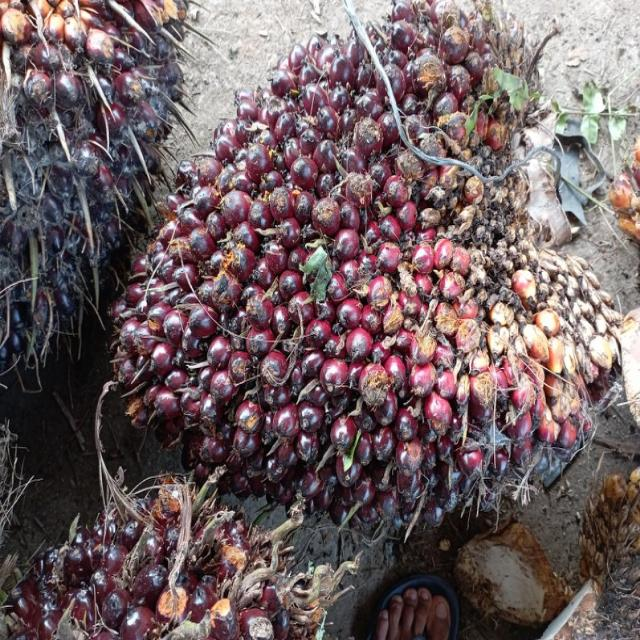fraksi 1: (94, 13, 624, 514)
